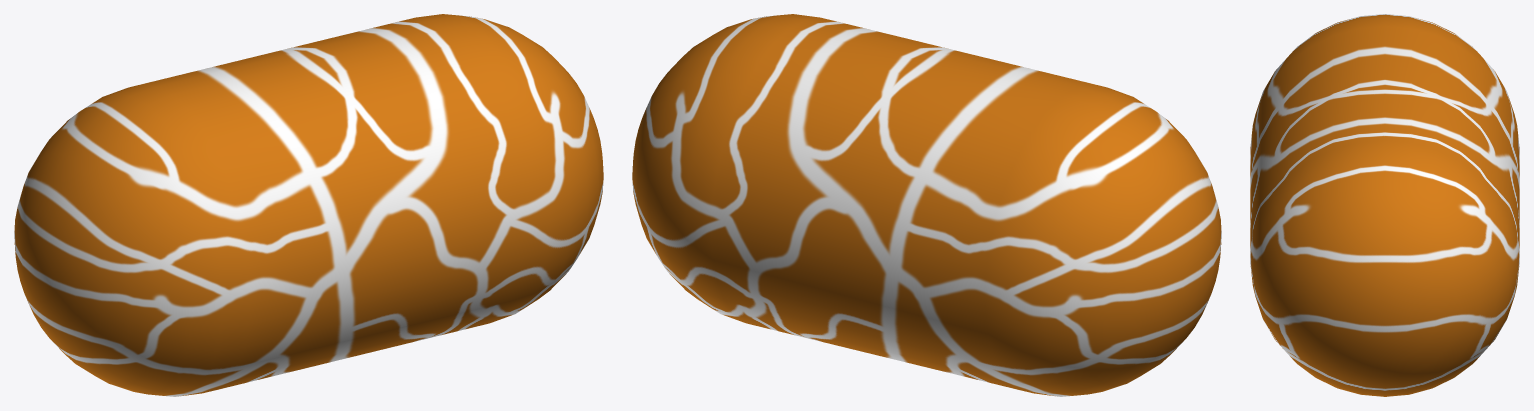
File: block_yellow2.glb
The picture shows the model from 3 angles, left to right: view 1: azimuth 30°, elevation 25°; view 2: azimuth 150°, elevation 25°; view 3: azimuth 270°, elevation 25°; orthographic projection. The views are drawn at different scales.
Parts seen in each view (by area): view 1: Sphere; view 2: Sphere; view 3: Sphere.
Part boxes in pixels (x1,y1,x2,y2): Sphere: (14,14,603,396); Sphere: (632,14,1221,396); Sphere: (1250,14,1519,396).
Size of the model in its own units: 2 by 1 by 1.
1 material, 1 textured.
